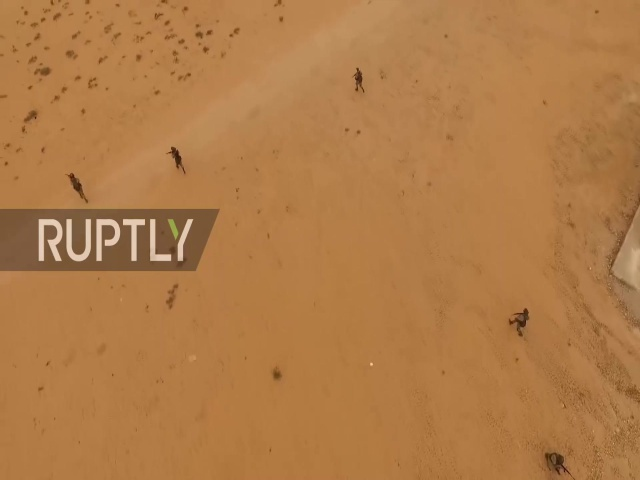person: (64, 169, 90, 205), (505, 307, 533, 339), (165, 142, 190, 177), (351, 65, 367, 95)
